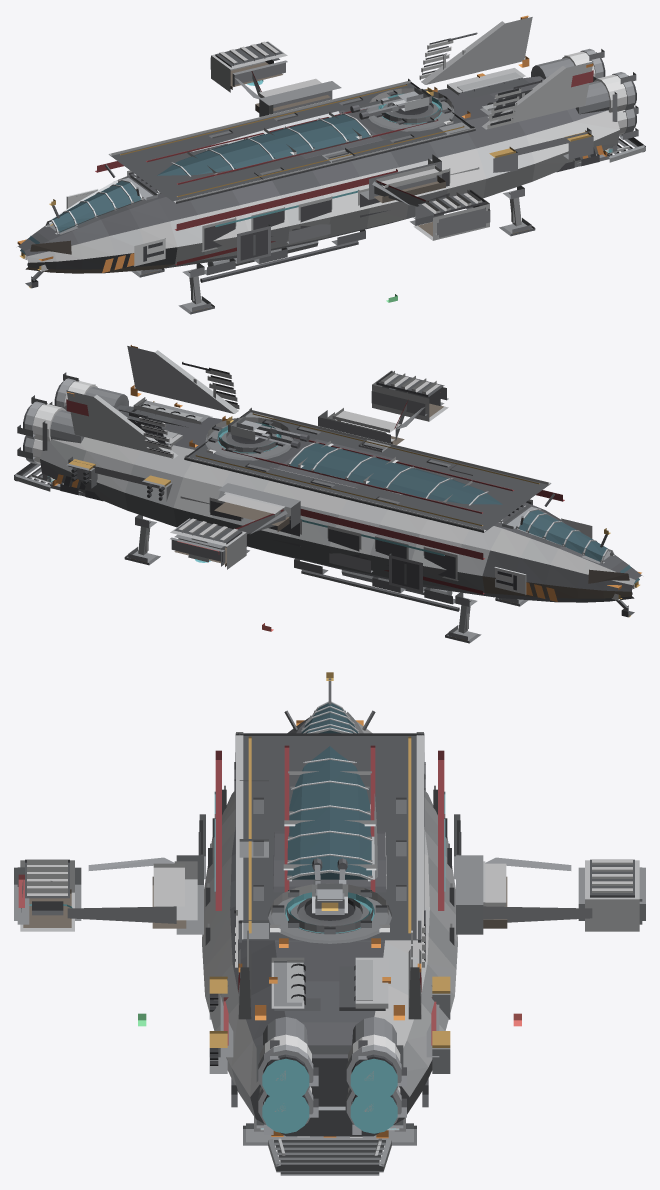
The model's file is calico_hero.glb.
The picture shows the model from 3 angles, top to bottom: view 1: azimuth 30°, elevation 25°; view 2: azimuth 150°, elevation 25°; view 3: azimuth 270°, elevation 25°; orthographic projection. The views are drawn at different scales.
Visible parts, largest first — view 1: hull_mid, hull_rear, canopy, hull_fwd, winglets_r, winglets_l, fins_l, fins_r, engines, greebles, turret, decals (+7 smaller); view 2: hull_mid, hull_rear, hull_fwd, canopy, winglets_l, winglets_r, fins_r, fins_l, engines, greebles, turret, decals (+6 smaller); view 3: hull_mid, hull_rear, canopy, winglets_l, winglets_r, engines, thrusters, turret, ramp, cms, mbay_l, mbay_r (+5 smaller).
Part boxes in pixels (left/top/right/bottom): hull_mid: left=95, top=78, right=486, bottom=268; hull_rear: left=437, top=55, right=619, bottom=198; canopy: left=45, top=111, right=372, bottom=234; hull_fwd: left=17, top=176, right=177, bottom=288; winglets_r: left=360, top=154, right=490, bottom=240; winglets_l: left=210, top=41, right=341, bottom=116; fins_l: left=419, top=15, right=532, bottom=84; fins_r: left=482, top=61, right=593, bottom=129; engines: left=531, top=48, right=638, bottom=139; greebles: left=49, top=120, right=472, bottom=282; turret: left=366, top=88, right=454, bottom=131; decals: left=66, top=145, right=603, bottom=272; hull_mid: left=173, top=407, right=564, bottom=597; hull_rear: left=40, top=384, right=222, bottom=527; hull_fwd: left=482, top=505, right=642, bottom=617; canopy: left=287, top=441, right=614, bottom=563; winglets_l: left=170, top=483, right=300, bottom=569; winglets_r: left=318, top=370, right=448, bottom=444; fins_r: left=127, top=345, right=239, bottom=413; fins_l: left=66, top=390, right=177, bottom=458; engines: left=17, top=372, right=128, bottom=464; greebles: left=241, top=411, right=610, bottom=611; turret: left=205, top=417, right=293, bottom=460; decals: left=56, top=474, right=592, bottom=601; hull_mid: left=198, top=732, right=461, bottom=995; hull_rear: left=205, top=942, right=454, bottom=1142; canopy: left=283, top=701, right=377, bottom=881; winglets_l: left=456, top=855, right=645, bottom=934; winglets_r: left=14, top=855, right=203, bottom=934; engines: left=258, top=1017, right=406, bottom=1134; thrusters: left=262, top=1058, right=397, bottom=1133; turret: left=268, top=883, right=391, bottom=943; ramp: left=268, top=1138, right=391, bottom=1175; cms: left=209, top=976, right=450, bottom=1073; mbay_l: left=355, top=957, right=390, bottom=1008; mbay_r: left=269, top=957, right=304, bottom=1008.
Bounding box in the file's own units: 46.56 × 11.43 × 30.1.
